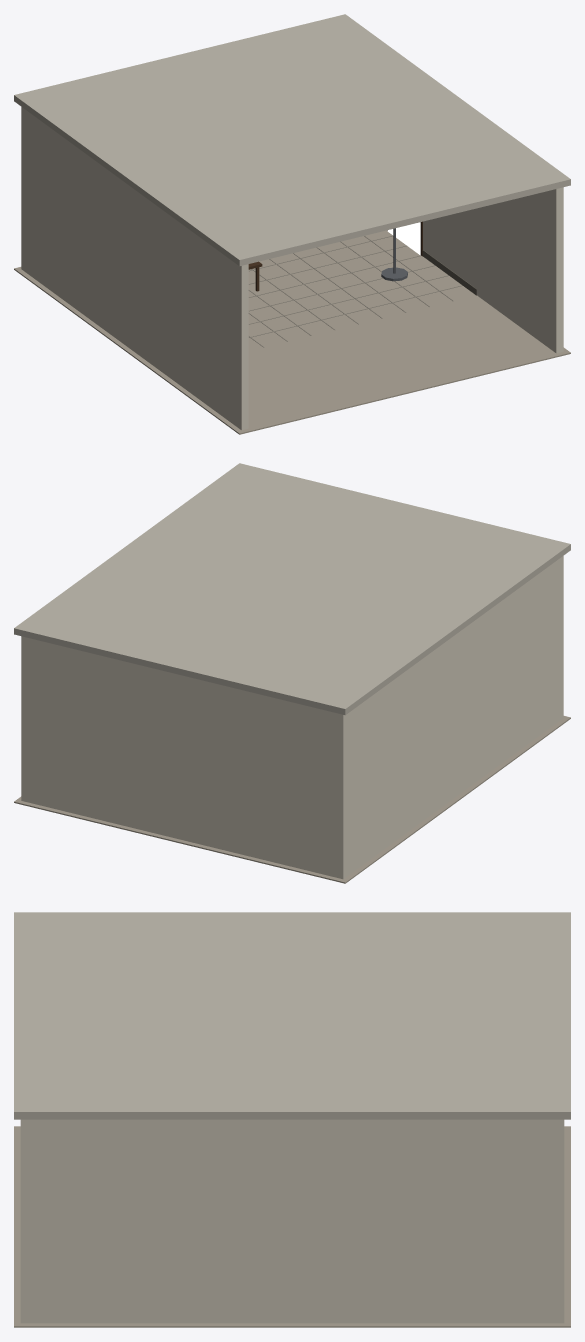
Rendered from story_jolo_home.glb.
3 renders of one model, top to bottom at view 1: azimuth 30°, elevation 25°; view 2: azimuth 150°, elevation 25°; view 3: azimuth 270°, elevation 25°, orthographic. The views are drawn at different scales.
Parts seen in each view (by area): view 1: story_jolo_home_room_mesh, story_jolo_home_props_mesh; view 2: story_jolo_home_room_mesh; view 3: story_jolo_home_room_mesh.
Boxes of the visible parts, x1,y1,x2,y2 form: story_jolo_home_room_mesh: [14, 14, 570, 434]; story_jolo_home_props_mesh: [248, 228, 407, 291]; story_jolo_home_room_mesh: [14, 463, 570, 883]; story_jolo_home_room_mesh: [14, 912, 570, 1327].
Size of the model in its own units: 5.6 by 2.85 by 6.6.
